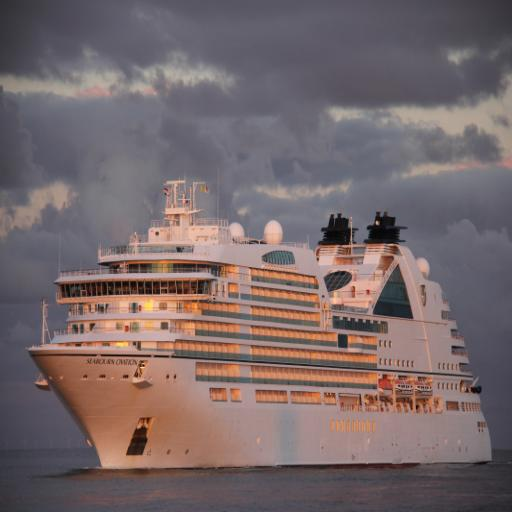cruises: (27, 174, 497, 478)
